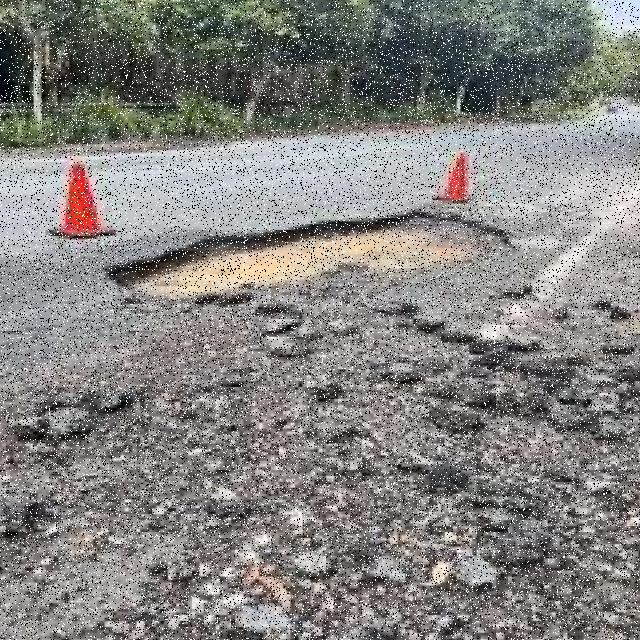pothole: (109, 212, 496, 301)
